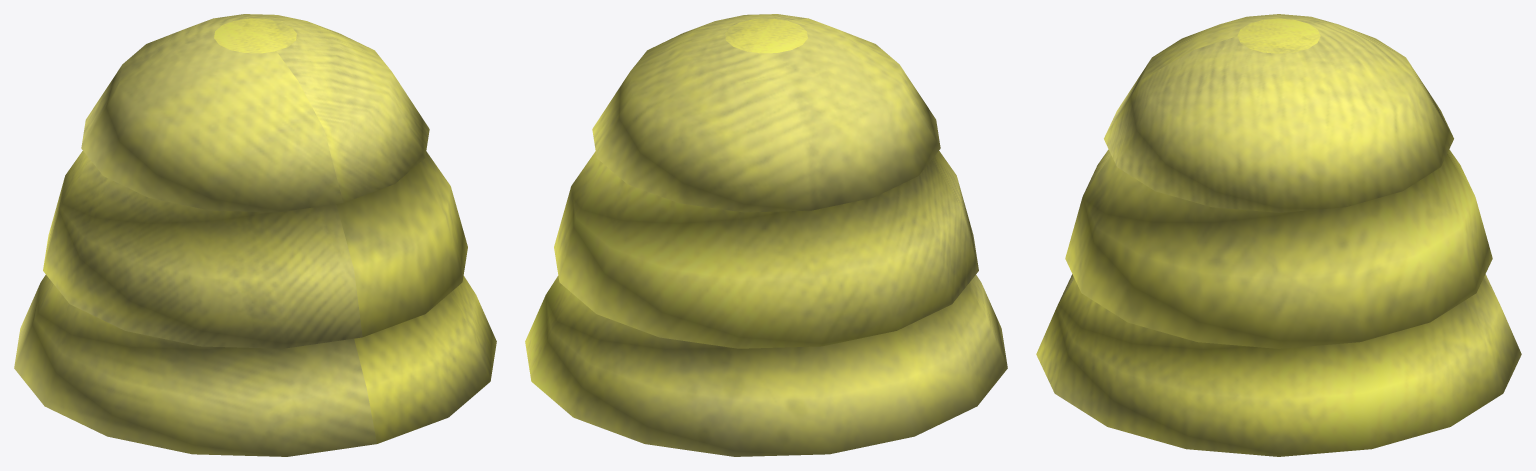
Rendered from HAYSTACK.fbx.
3 views of the same model, side by side, from view 1: azimuth 30°, elevation 25°; view 2: azimuth 150°, elevation 25°; view 3: azimuth 270°, elevation 25° (orthographic).
Visible parts, largest first — view 1: Cylinder; view 2: Cylinder; view 3: Cylinder.
Part boxes in pixels (box(x1,y1,x2,y2)): Cylinder: box(14, 14, 496, 456); Cylinder: box(525, 14, 1007, 456); Cylinder: box(1036, 14, 1521, 456).
Size of the model in its own units: 200 by 145 by 200.
Materials: 1 (1 with a texture image).
